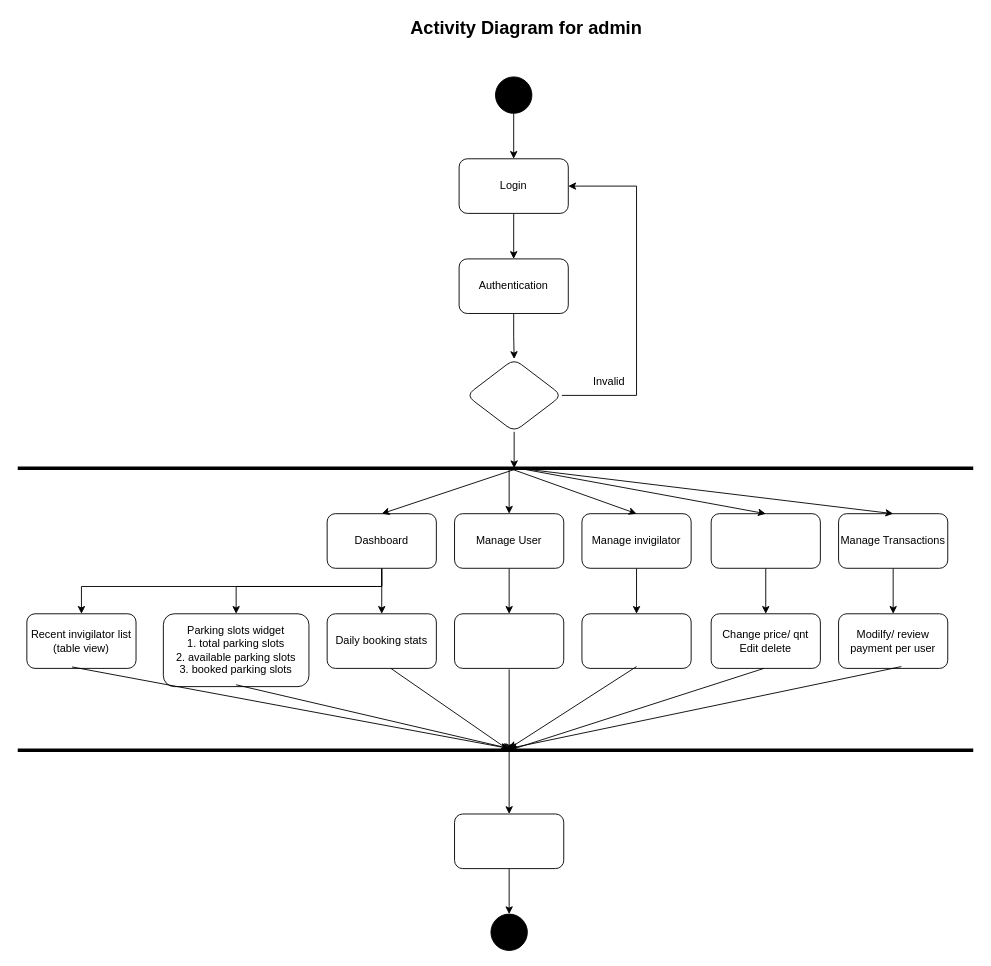
The diagram is 991 pixels wide and 966 high, and some of its shapes have lost their labels. The shapes that lost their labels are listed below. From the top down, each one's box as (x1, y1, x2, y2) in pixels, then its label:
(465, 358, 562, 432): Check
(710, 513, 820, 568): Manage parking slots
(454, 613, 564, 668): Add/ edit/ delete user
(581, 613, 691, 668): Add/edit/delete invigilator
(454, 813, 564, 869): Logout
